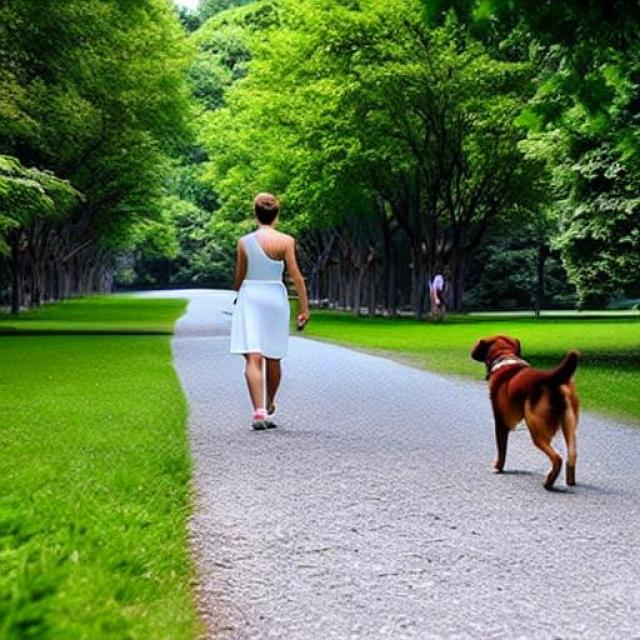Unleashed_Dog: (244, 333, 582, 488)
